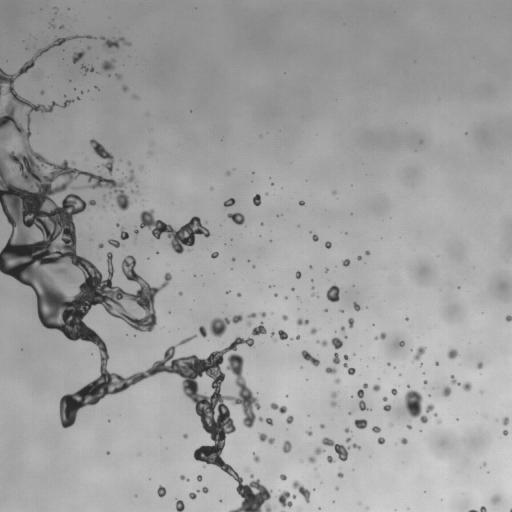droplet: (322, 437, 360, 461), (277, 490, 296, 507), (326, 284, 339, 302), (227, 212, 244, 225), (251, 322, 266, 335), (72, 51, 84, 63), (102, 59, 114, 70), (331, 337, 342, 349), (354, 419, 367, 429), (282, 440, 291, 453), (447, 349, 458, 359), (223, 198, 235, 207), (157, 485, 166, 497), (82, 65, 93, 74), (198, 326, 207, 337), (442, 386, 451, 396), (253, 194, 261, 205), (176, 500, 184, 511), (278, 330, 287, 339), (462, 382, 471, 391), (375, 332, 386, 339), (332, 353, 339, 364), (325, 367, 336, 374), (425, 404, 434, 412), (314, 447, 323, 455), (326, 455, 335, 463), (491, 495, 500, 503), (317, 340, 327, 346), (342, 259, 350, 266), (353, 302, 360, 310), (372, 384, 380, 391), (383, 404, 391, 411), (286, 415, 293, 423), (502, 417, 509, 425), (372, 426, 380, 433), (377, 437, 385, 444), (308, 455, 315, 463), (188, 492, 196, 499), (348, 318, 354, 327), (253, 453, 259, 462), (390, 388, 397, 395), (400, 437, 407, 444), (201, 486, 208, 493), (312, 234, 318, 241), (325, 241, 331, 248), (211, 252, 218, 258), (505, 315, 511, 321), (310, 328, 316, 334), (477, 362, 483, 368), (306, 429, 312, 435), (280, 474, 286, 480), (296, 271, 301, 278), (122, 85, 127, 91), (344, 427, 350, 432), (502, 429, 507, 435), (337, 472, 343, 477), (197, 475, 202, 481), (134, 228, 138, 235), (98, 243, 103, 248), (365, 250, 370, 255), (282, 315, 287, 320), (340, 326, 345, 331), (399, 341, 404, 346), (334, 378, 339, 383), (382, 396, 387, 401), (346, 437, 351, 442), (299, 201, 304, 205), (130, 190, 136, 193), (116, 74, 120, 78), (226, 171, 230, 175), (357, 256, 361, 260), (237, 293, 241, 297), (247, 322, 251, 326), (423, 380, 427, 384), (437, 419, 441, 423), (320, 424, 324, 428), (407, 425, 411, 429), (183, 434, 187, 438), (73, 186, 78, 189), (311, 293, 316, 296), (133, 95, 137, 98), (332, 191, 336, 194), (325, 268, 328, 272), (296, 335, 299, 339), (95, 86, 98, 89), (41, 91, 44, 94), (179, 292, 182, 295), (434, 413, 437, 416), (483, 462, 486, 465), (103, 195, 105, 199), (76, 97, 79, 99), (232, 258, 235, 260), (291, 288, 294, 290), (226, 291, 229, 293), (274, 294, 277, 296), (340, 309, 342, 312), (387, 363, 390, 365), (435, 362, 438, 364), (348, 412, 351, 414), (335, 487, 338, 489), (509, 508, 511, 511), (52, 25, 54, 27), (60, 26, 62, 28), (128, 162, 130, 164), (252, 265, 254, 267), (310, 266, 312, 268), (312, 287, 314, 289), (406, 318, 408, 320), (344, 335, 346, 337), (390, 424, 392, 426)
ligament: (0, 36, 273, 511), (139, 209, 210, 253), (404, 385, 427, 423), (90, 139, 114, 174), (209, 314, 242, 337), (292, 480, 310, 502), (357, 383, 371, 410), (101, 36, 130, 48), (301, 350, 319, 366), (343, 355, 355, 375), (413, 346, 426, 362), (116, 224, 128, 240), (259, 433, 274, 444), (270, 403, 286, 413), (248, 312, 266, 318), (330, 391, 337, 406), (108, 239, 121, 247), (296, 318, 309, 325), (450, 375, 459, 385), (62, 99, 73, 107), (469, 506, 486, 511), (270, 332, 276, 341), (180, 475, 188, 481), (85, 35, 93, 38)
